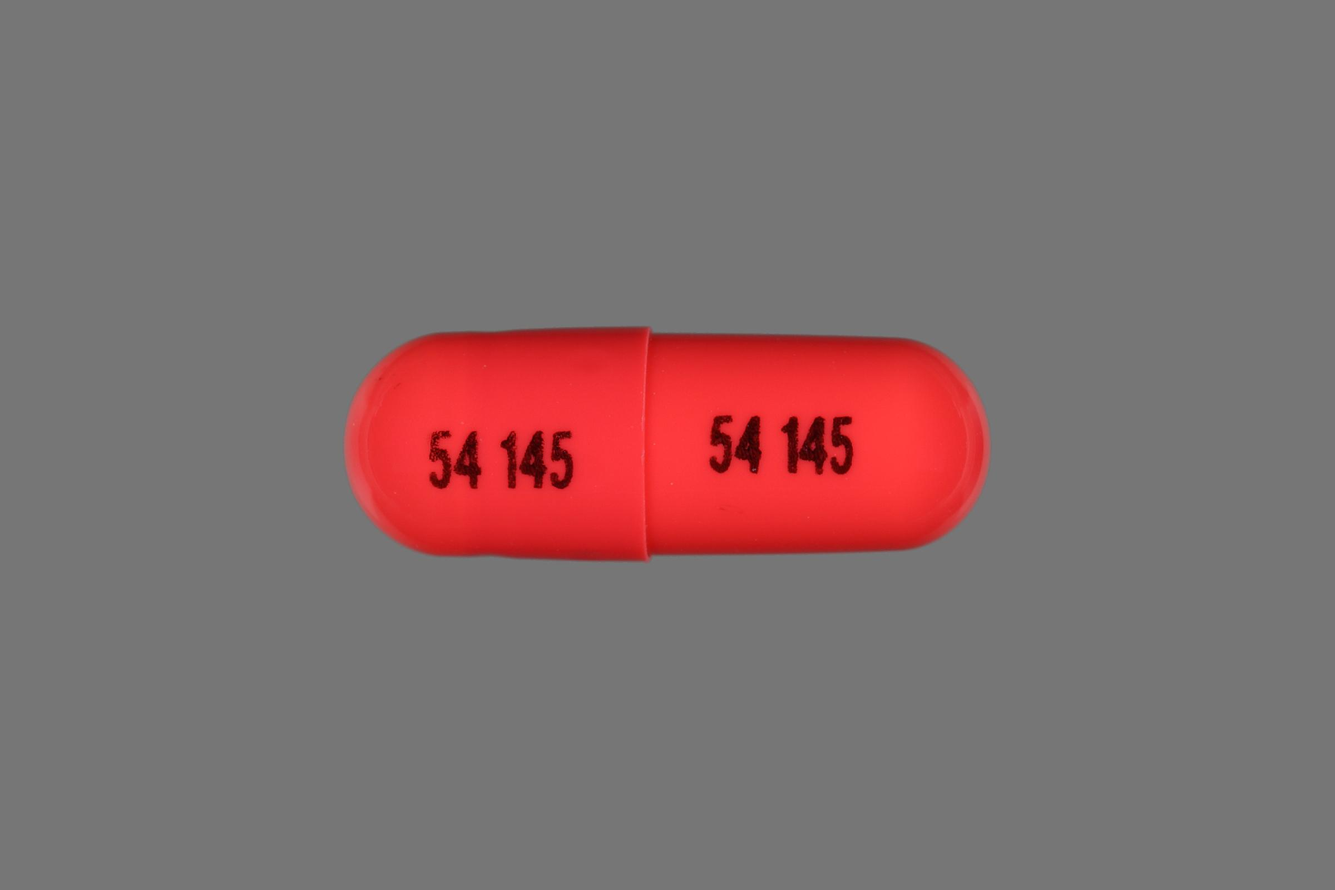Pill: (334, 315, 999, 575)
